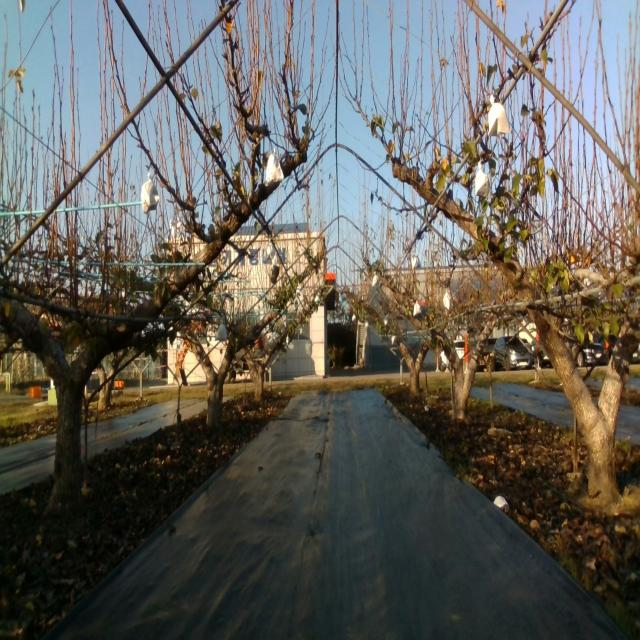pearbags: (488, 96, 512, 139), (139, 172, 158, 215), (265, 148, 285, 184), (475, 159, 493, 197), (263, 240, 276, 262), (215, 320, 227, 341)
